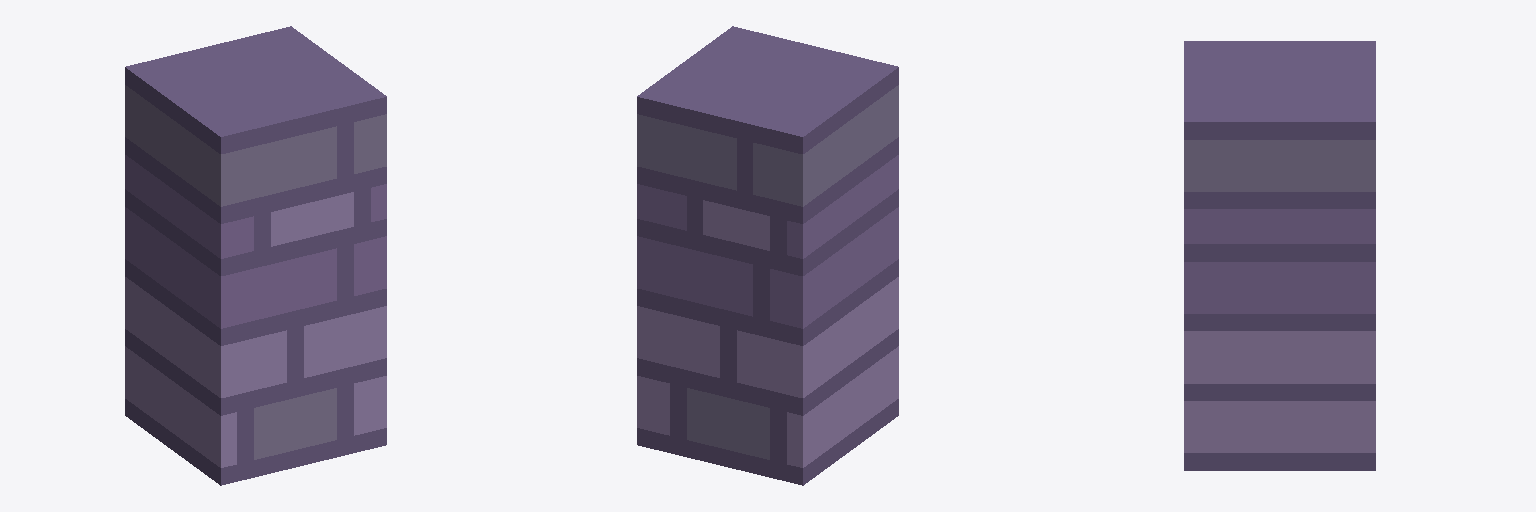
3 renders of one model, left to right at view 1: azimuth 30°, elevation 25°; view 2: azimuth 150°, elevation 25°; view 3: azimuth 270°, elevation 25°, orthographic.
Visible parts, largest first — view 1: Wall_Single; view 2: Wall_Single; view 3: Wall_Single.
Part boxes in pixels (left/top/right/bottom): Wall_Single: left=125, top=26, right=386, bottom=485; Wall_Single: left=637, top=26, right=898, bottom=485; Wall_Single: left=1184, top=41, right=1375, bottom=470.
Bounding box in the file's own units: 10 × 20 × 10.
1 materials, 1 textured.